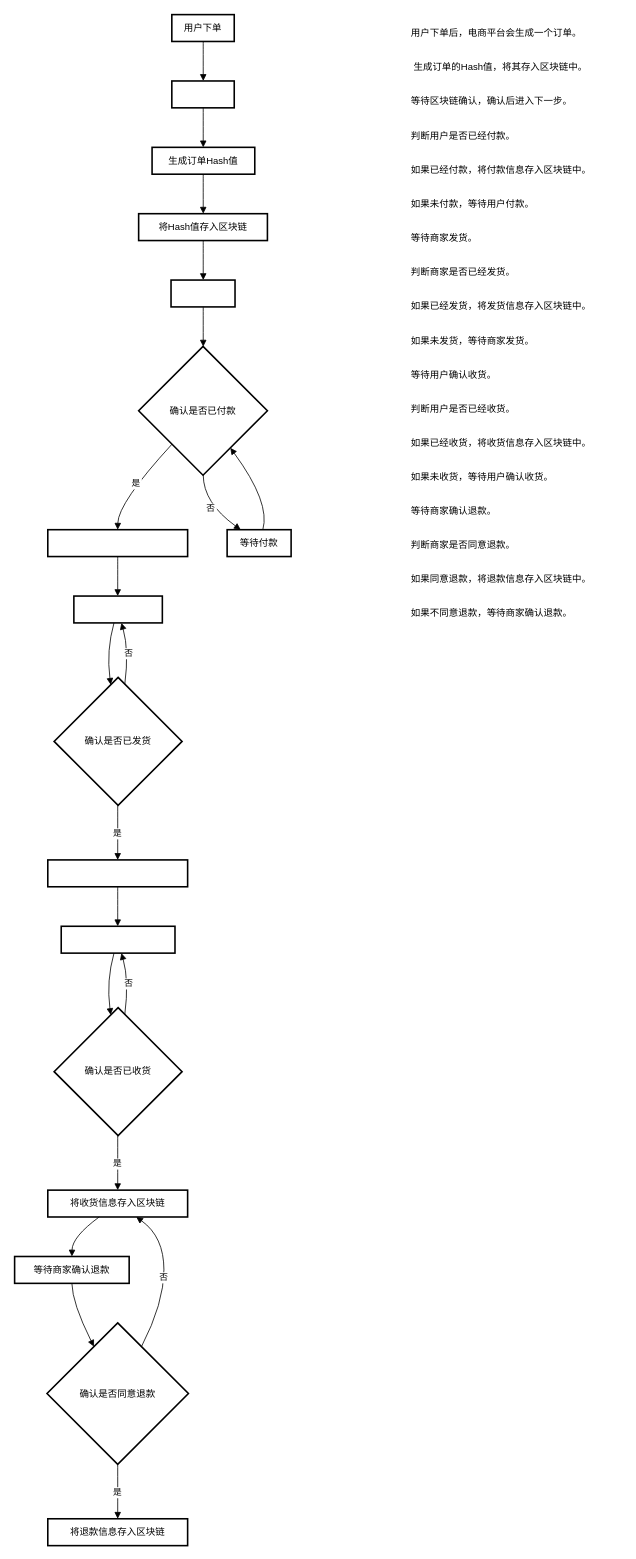
This 636x1559 diagram has some shape labels left out. The shapes that lost their labels are listed below. From the top down, each one's centre as x and y in pixels, then its label:
At [203,94]: "生成订单".
At [202,293]: "等待确认".
At [117,543]: "将付款信息存入区块链".
At [118,609]: "等待商家发货".
At [117,873]: "将发货信息存入区块链".
At [117,939]: "等待用户确认收货".
